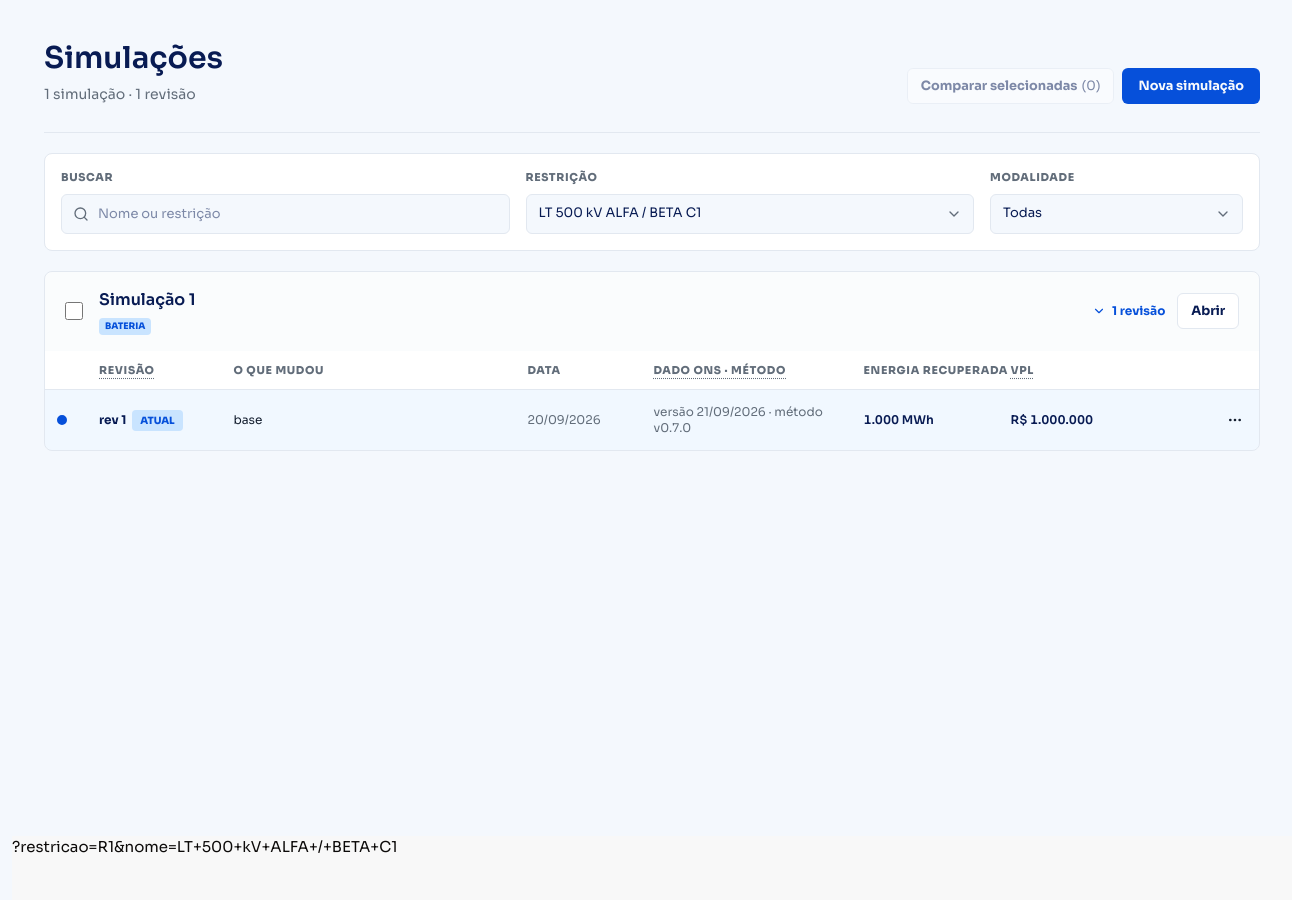
Test: simulations page › choosing "Todas" clears the restriction from the URL
Step 1. Select "Todas" in the dropdown labelled "Restrição" → (750,214), box [526,194,974,234]
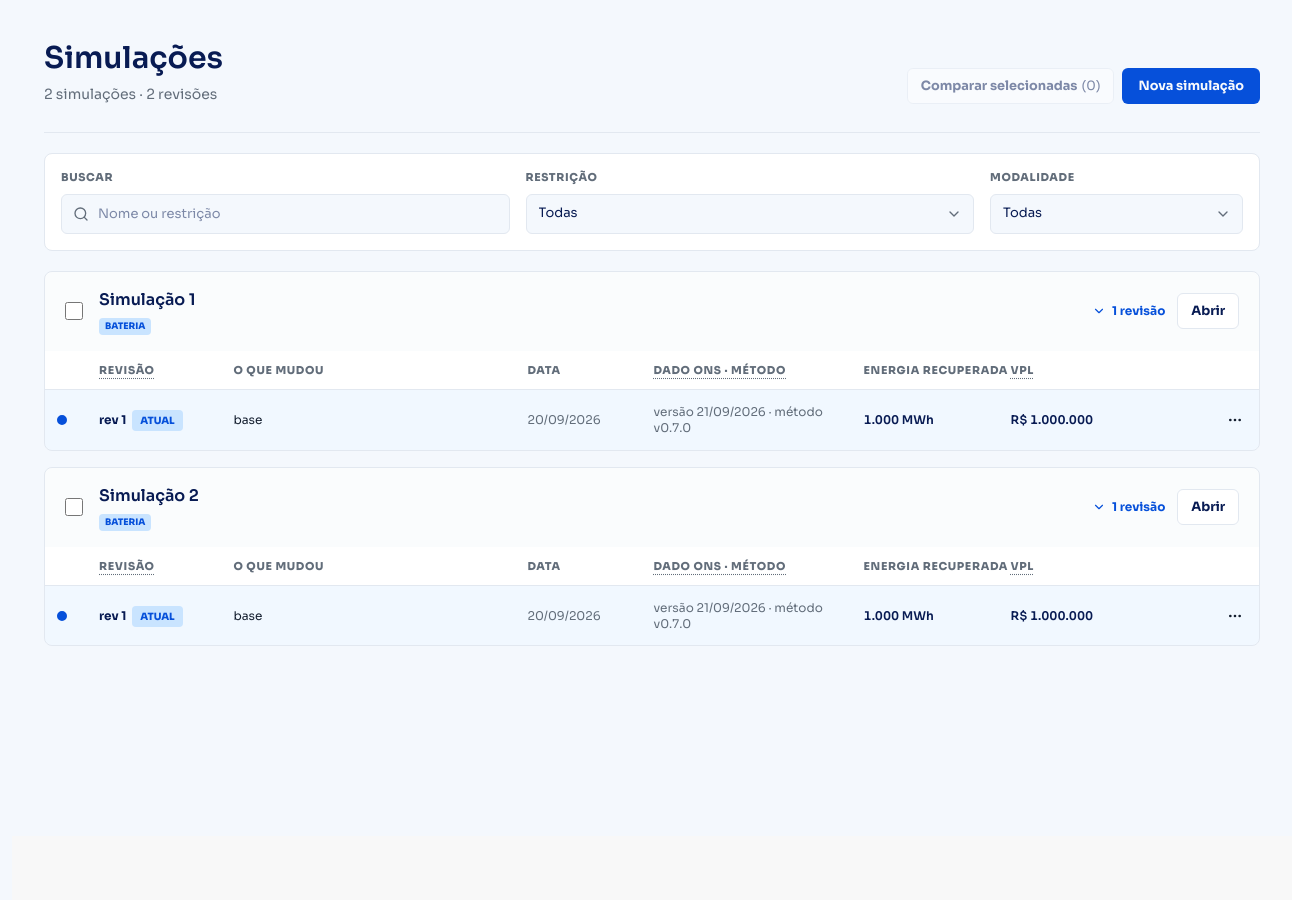
Expected: the link "Simulação 1" is shown, [99,289,195,310]
Expected: the link "Simulação 2" is shown, [99,484,199,506]
